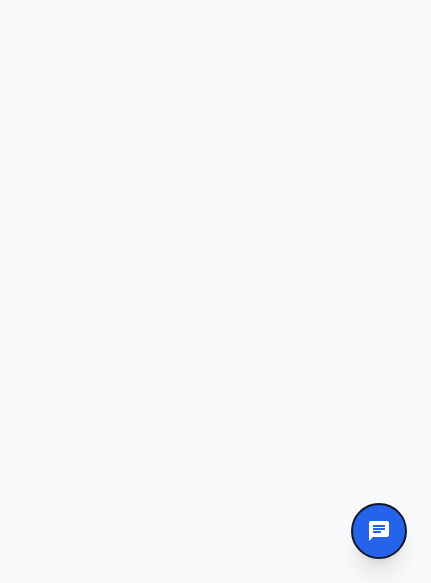
Test: ElonChatWidget Component (TDD Suite) › sends user message and displays ELON conversational response bubble
Click the button with test id "elon-fab-button" at (379, 531), box [351,503,407,559]
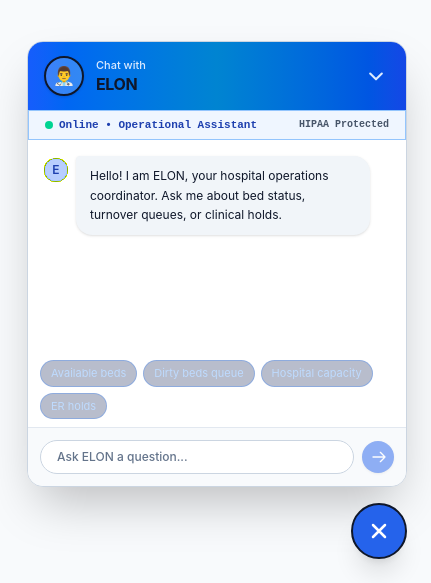
Type "What is ICU availability?" into the field with placeholder "Ask ELON a question..." at (197, 457), box [40,440,354,474]
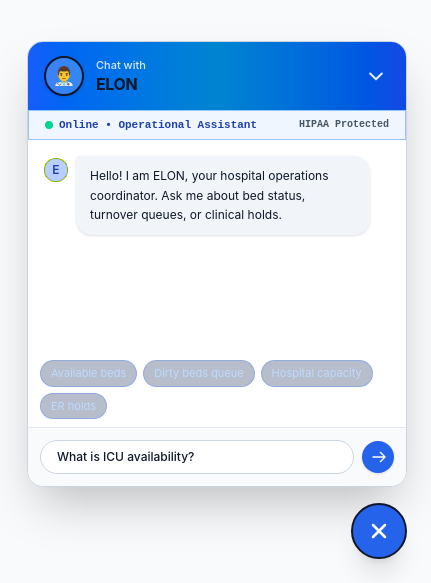
Click the button named "send message" at (378, 457), box [362,441,394,473]
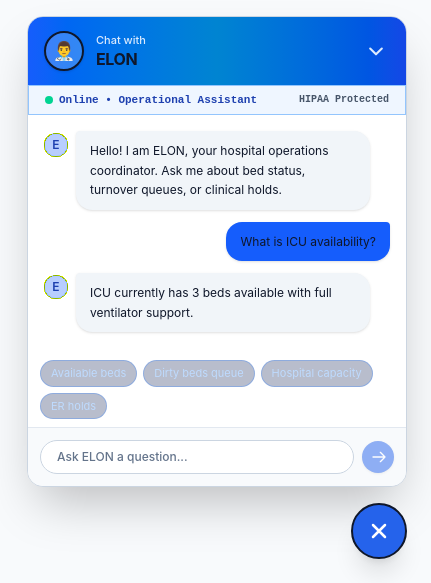
Result: the text "What is ICU availability?" is shown at [226,222,390,261]
Result: the text "ICU currently has 3 beds available with full ventilator support." is shown at [76,273,370,332]
